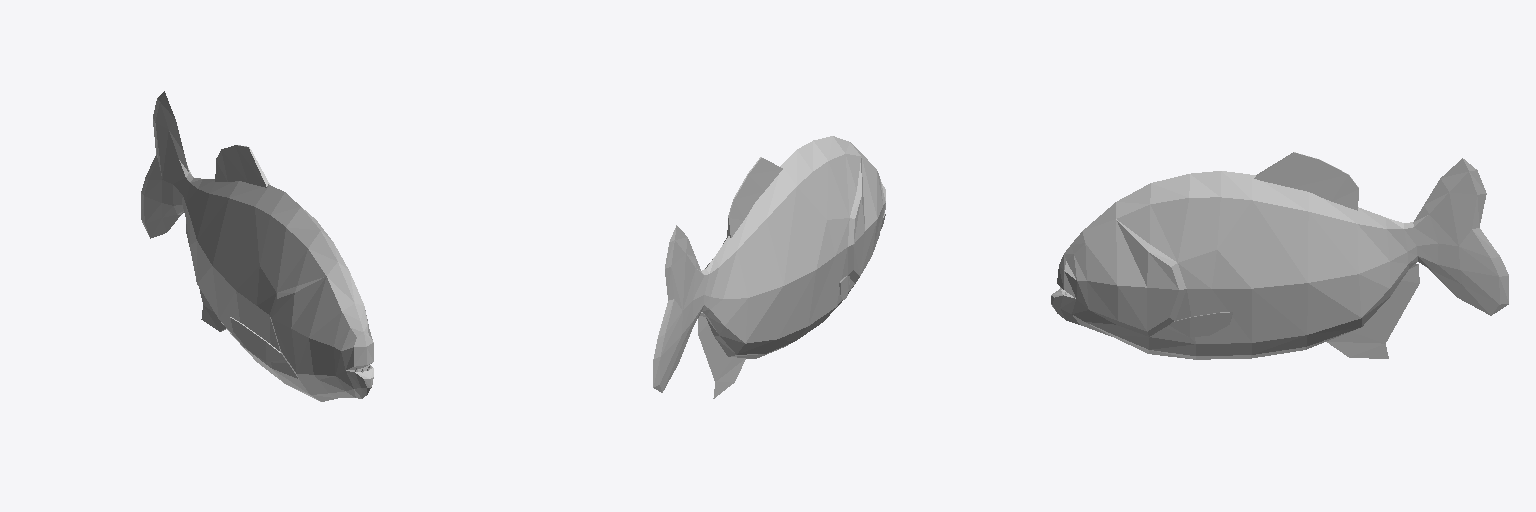
File: fish.obj
The picture shows the model from 3 angles: view 1: azimuth 30°, elevation 25°; view 2: azimuth 150°, elevation 25°; view 3: azimuth 270°, elevation 25°; orthographic projection.
Parts seen in each view (by area): view 1: Piranha_mesh; view 2: Piranha_mesh; view 3: Piranha_mesh.
Boxes of the visible parts, x1,y1,x2,y2 form: Piranha_mesh: [141, 91, 373, 401]; Piranha_mesh: [653, 136, 885, 398]; Piranha_mesh: [1051, 152, 1508, 359].
Size of the model in its own units: 0.4894 by 0.9866 by 1.98.